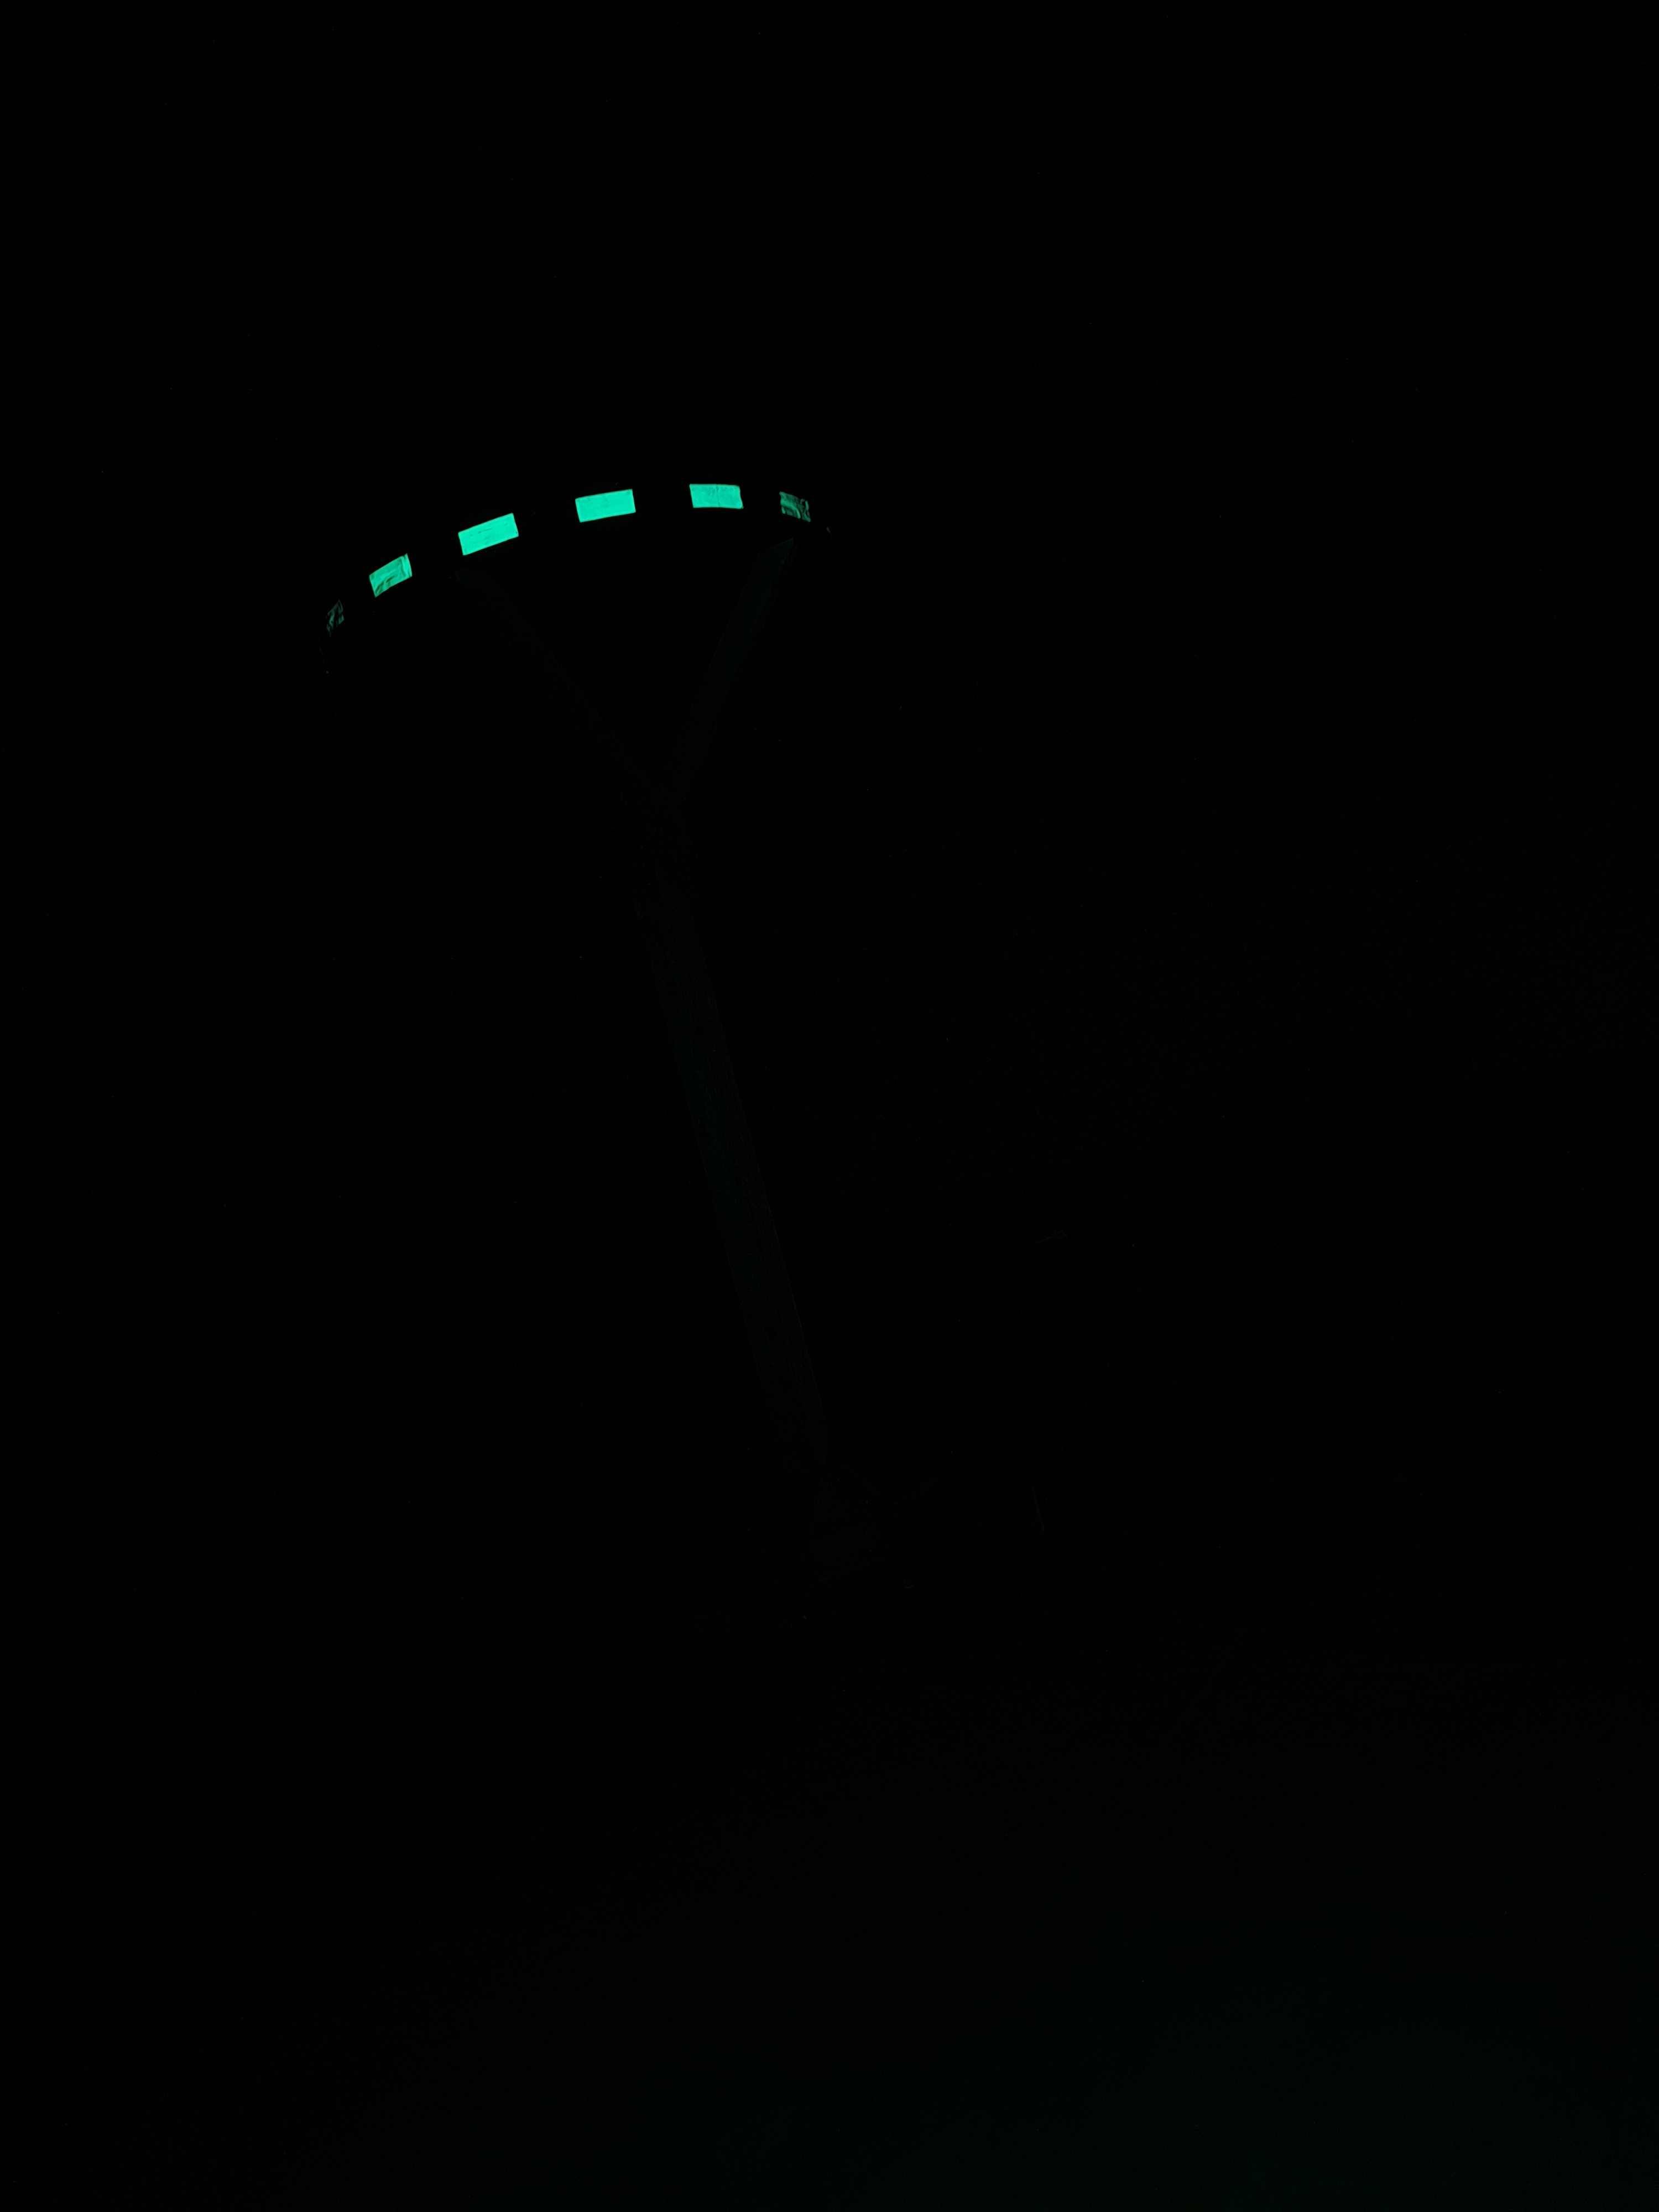hoop: (305, 481, 833, 634)
